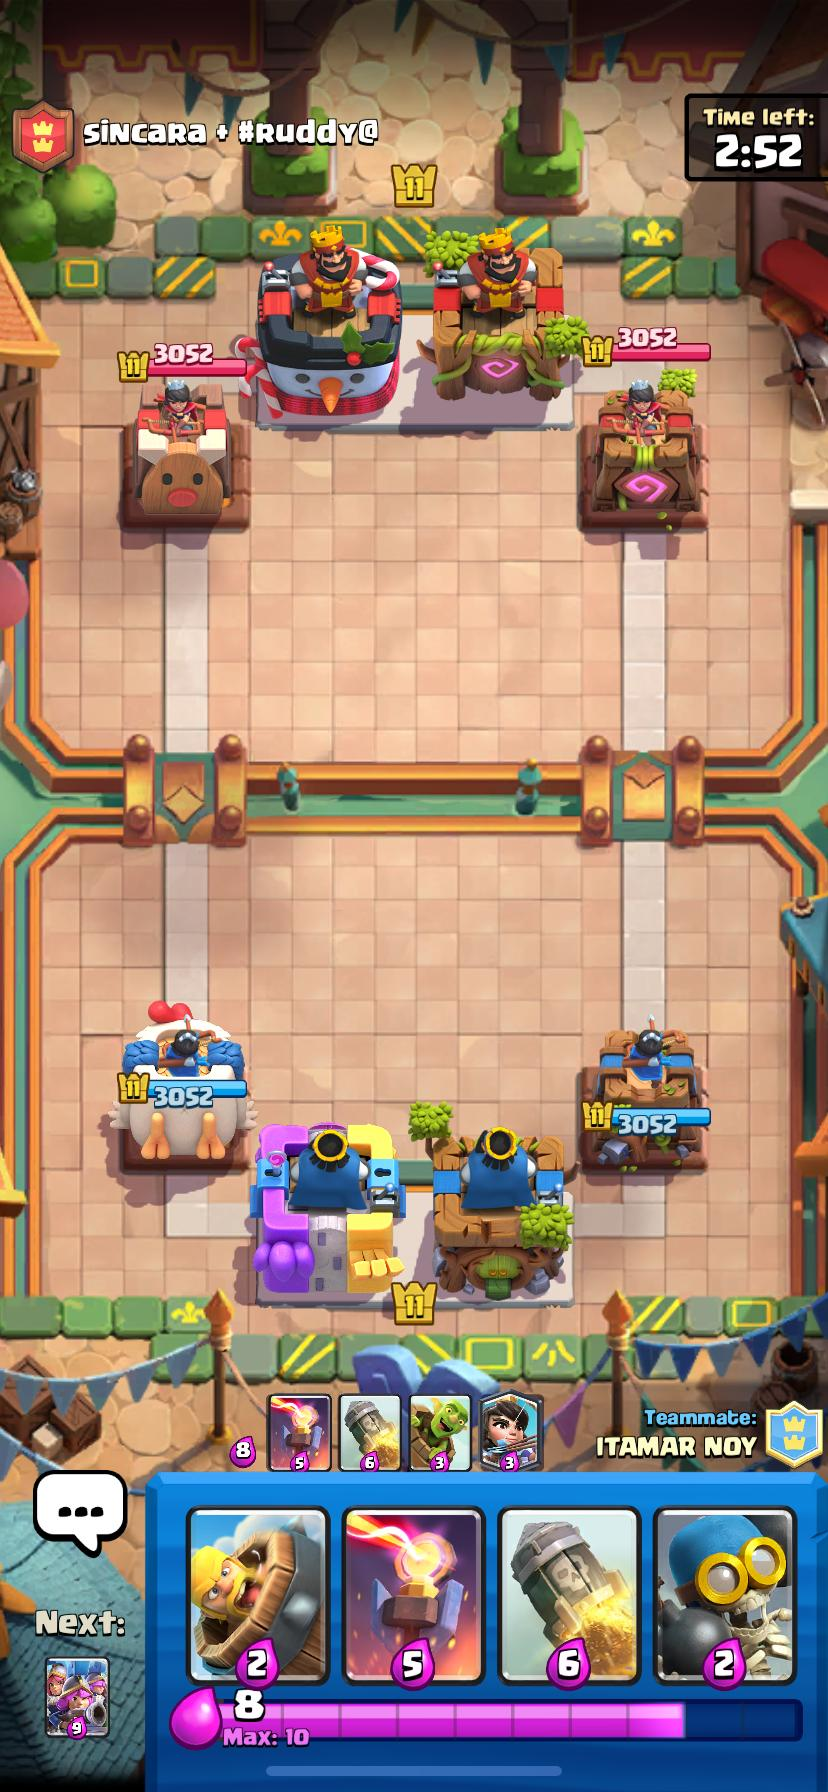EKingTower: (255, 227, 401, 425), (417, 227, 578, 401)
EnemyPrincessTower: (580, 379, 706, 529), (122, 382, 250, 528)
OwnKingTower: (252, 1123, 405, 1302), (433, 1128, 572, 1299)
OwnPrincessTower: (109, 1001, 255, 1161), (580, 1024, 710, 1173)
